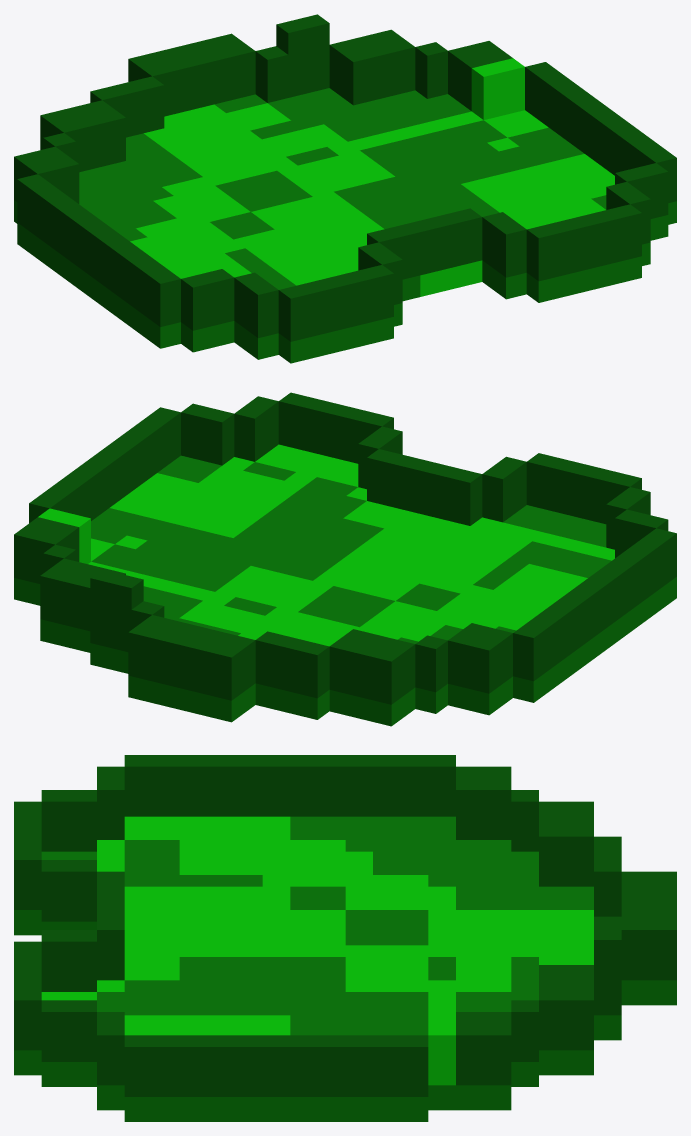
File: WaterLily.obj
The picture shows the model from 3 angles, top to bottom: view 1: azimuth 30°, elevation 25°; view 2: azimuth 150°, elevation 25°; view 3: azimuth 270°, elevation 25°; orthographic projection. The views are drawn at different scales.
Size of the model in its own units: 2.5 by 0.4 by 2.4.
1 material, 1 textured.
